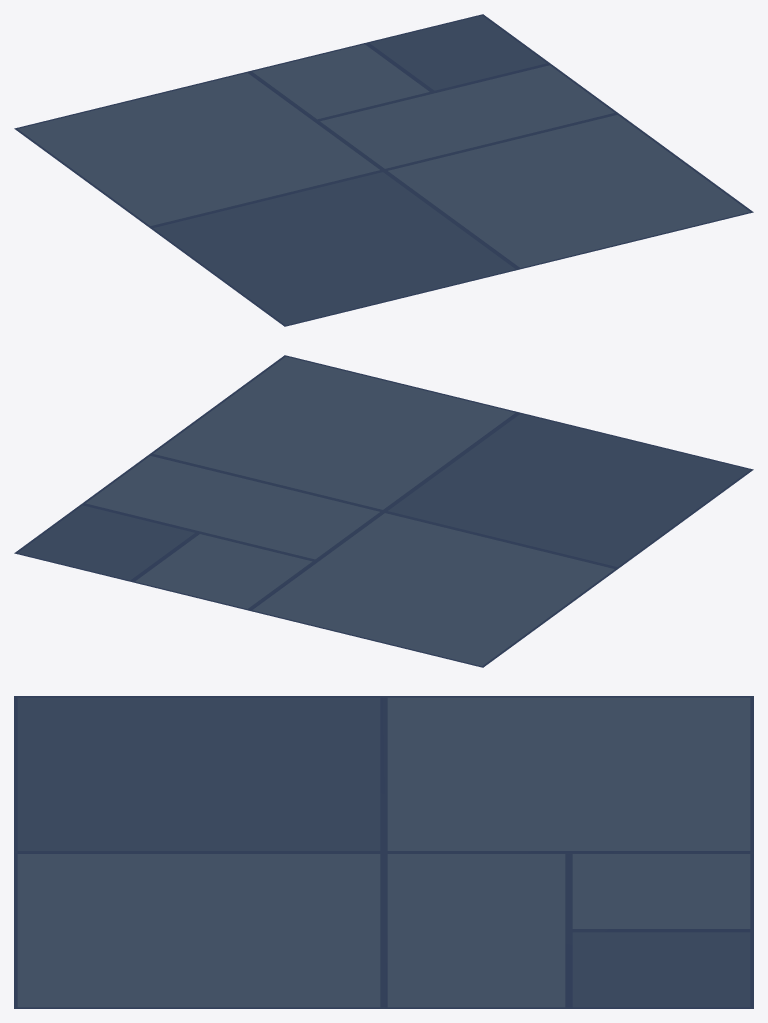
File: fbx-castle.tile-cracked.fbx
The picture shows the model from 3 angles, top to bottom: view 1: azimuth 30°, elevation 25°; view 2: azimuth 150°, elevation 25°; view 3: azimuth 270°, elevation 25°; orthographic projection. The views are drawn at different scales.
Parts seen in each view (by area): view 1: mesh-walls-big; view 2: mesh-walls-big; view 3: mesh-walls-big.
Part boxes in pixels (bbox=[...]): mesh-walls-big: bbox=[14, 14, 753, 326]; mesh-walls-big: bbox=[14, 355, 753, 667]; mesh-walls-big: bbox=[14, 696, 753, 1008].
Size of the model in its own units: 400 by 1.3e-06 by 400.
